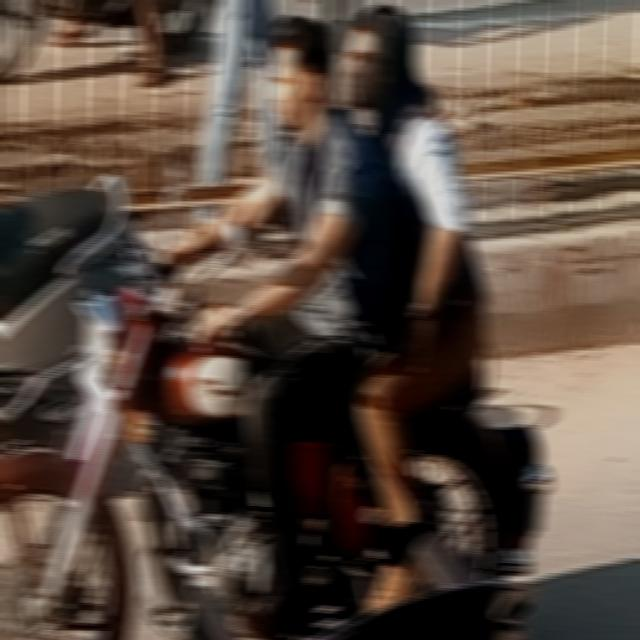Without Helmet: (262, 5, 340, 141)
